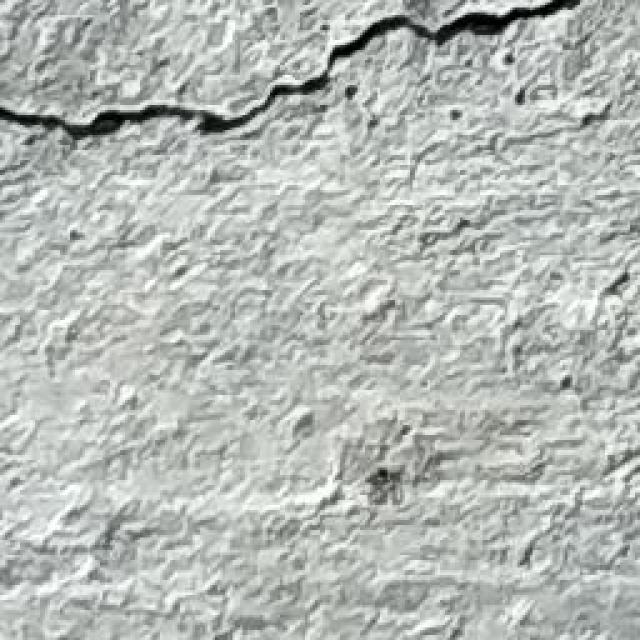Diagonal: (0, 0, 622, 147)
Rippled: (0, 202, 628, 640)
